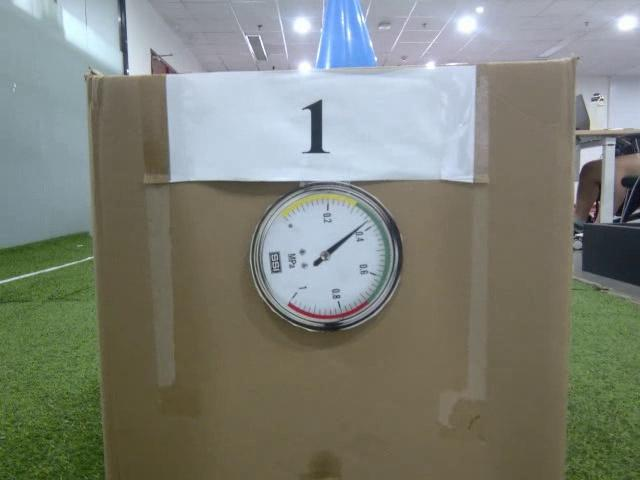1: (297, 98, 335, 156)
Dashboard: (248, 183, 405, 333)
blue_barrel: (306, 0, 383, 71)
ssi: (266, 248, 283, 274)
